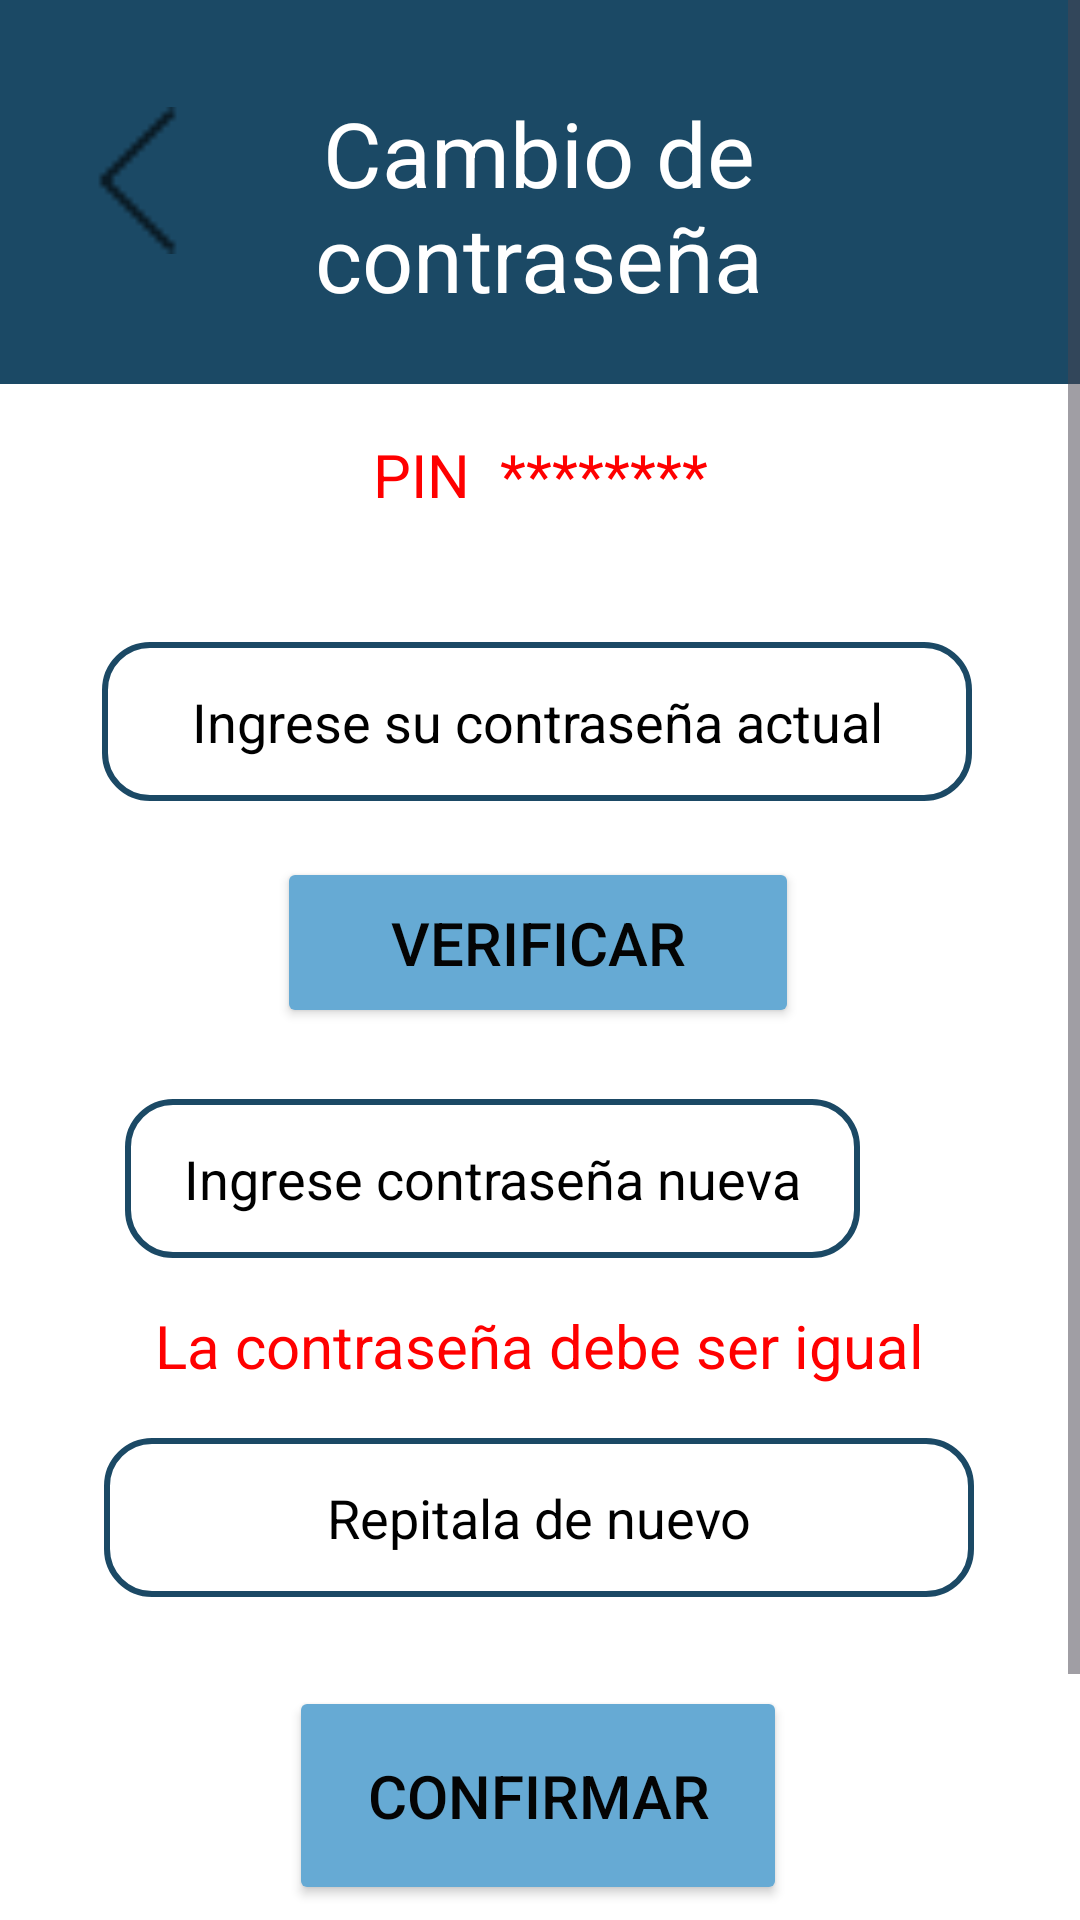

Icons on this 1080*1920 Android screen, each with the point to tap as [x,y]:
flecha: [137,180]
